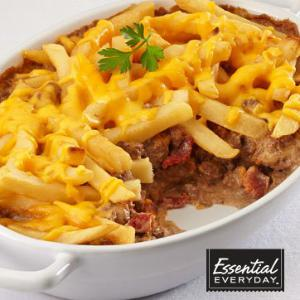fries_350cal: (15, 22, 298, 221)
